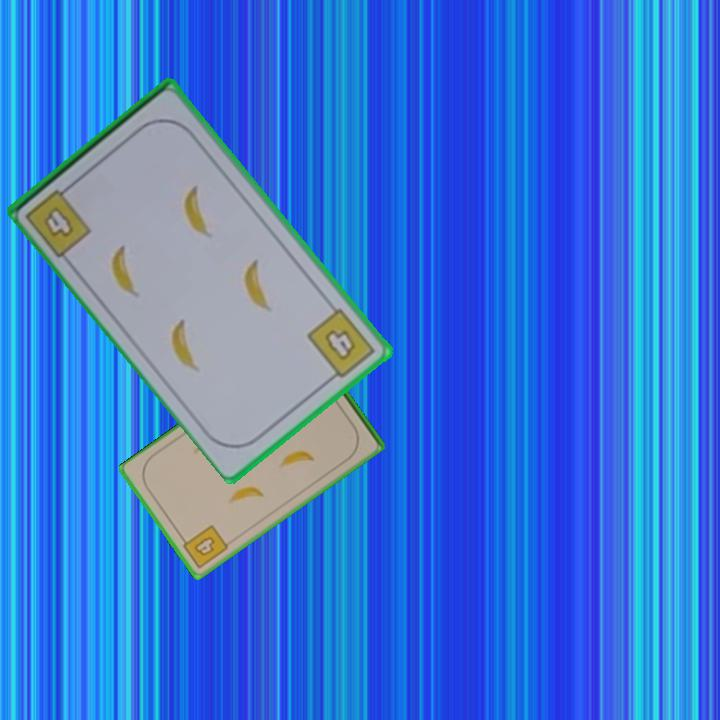4b: (303, 304, 379, 385), (21, 179, 94, 260), (177, 522, 231, 572)
